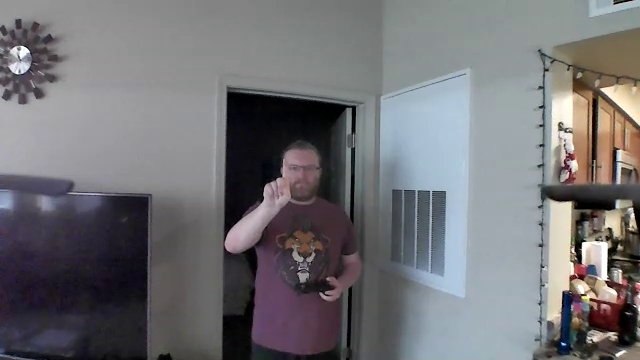up: (261, 157, 294, 208)
